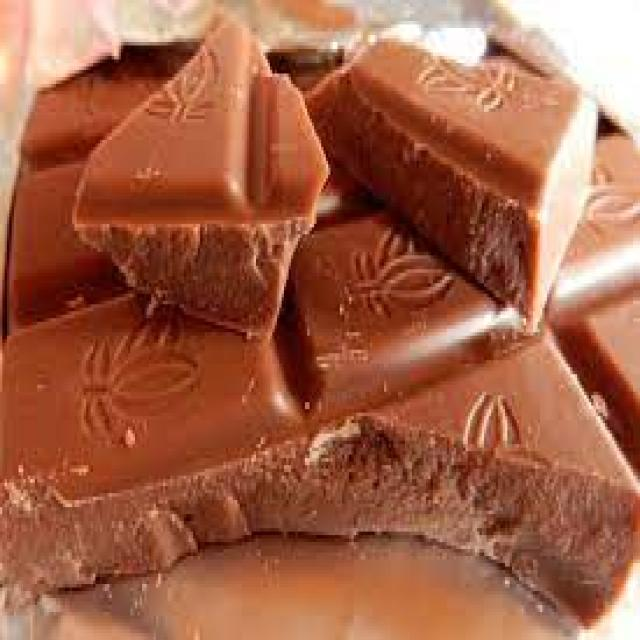Chocolate: (2, 7, 640, 640)
